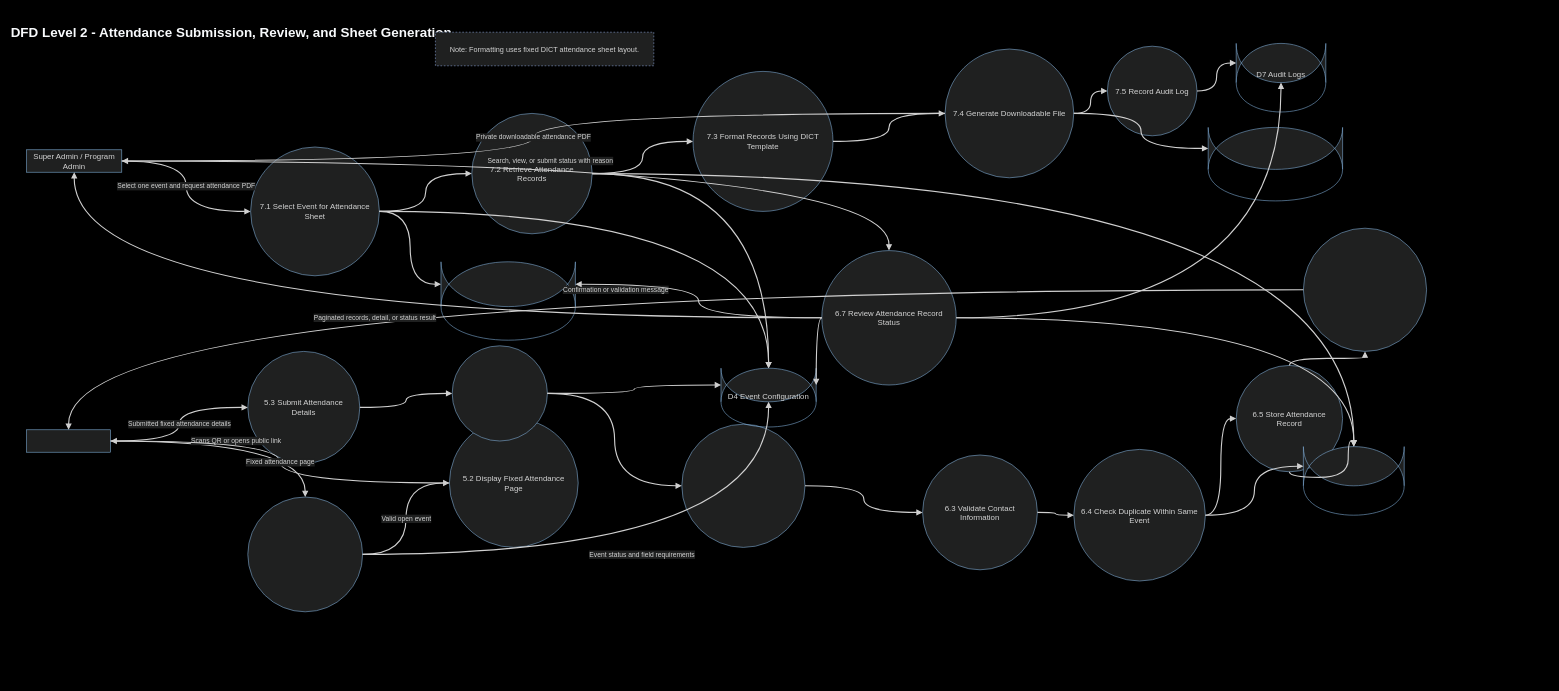
Image size: 1559x691. Some labels were removed from this diagram. The centre of each missing label's shape, as x and y in pixels:
5.1 Open Public Attendance Link: the point at 305,554
6.1 Validate Event Status: the point at 499,393
6.2 Validate Event Field Requirements: the point at 743,485
6.6 Show Submission Result: the point at 1365,289
D2 Roles and Program Assignments: the point at 507,284
D5 Attendance Records: the point at 1353,466
D6 Attendance Sheet Exports: the point at 1275,148
External Attendee: the point at 68,440
